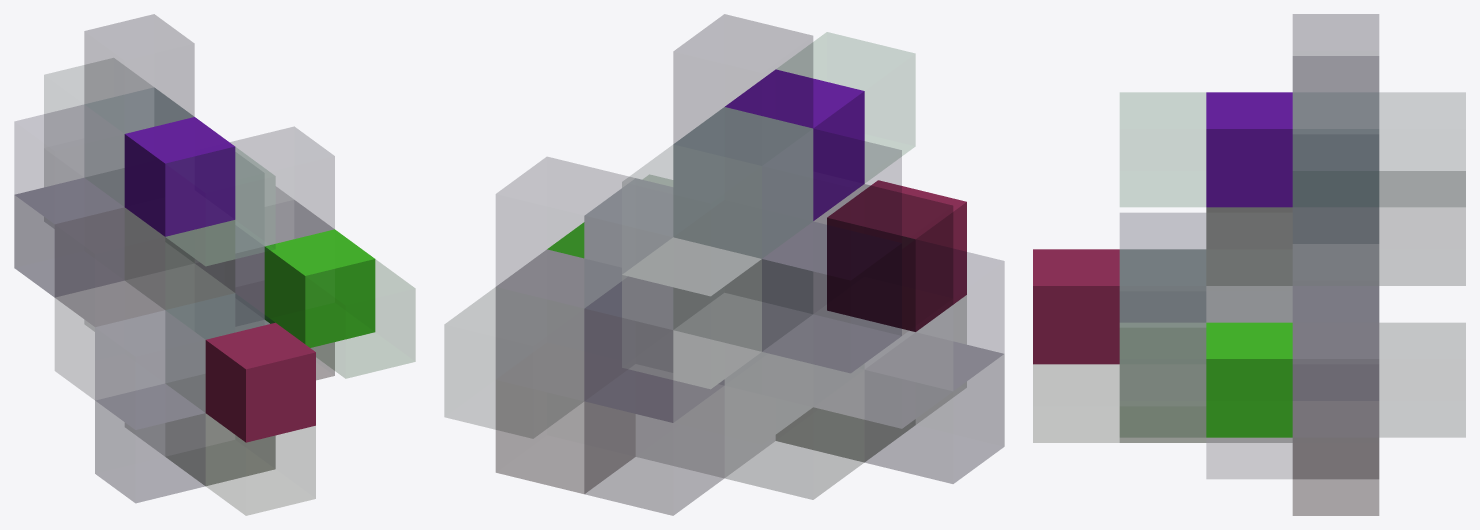
File: iter_5.obj
3 renders of one model, left to right at view 1: azimuth 30°, elevation 25°; view 2: azimuth 150°, elevation 25°; view 3: azimuth 270°, elevation 25°, orthographic. The views are drawn at different scales.
Parts seen in each view (by area): view 1: iter_5; view 2: iter_5; view 3: iter_5.
Part boxes in pixels (x1,y1,x2,y2): iter_5: (14, 14, 415, 515); iter_5: (445, 14, 1004, 515); iter_5: (1033, 14, 1465, 515).
Bounding box in the file's own units: 0.4 × 0.5 × 0.5.
